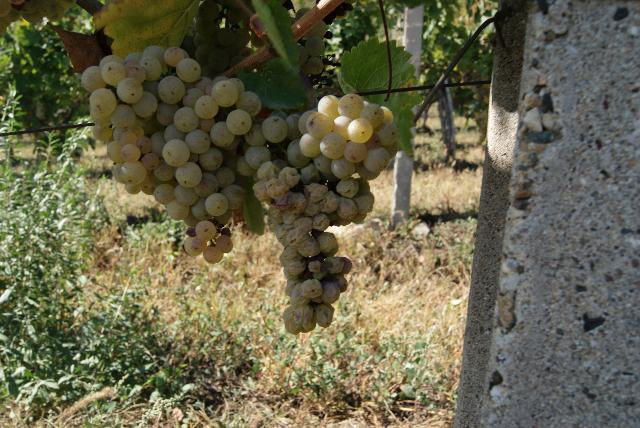grapes: (81, 45, 272, 260), (245, 94, 399, 334)
